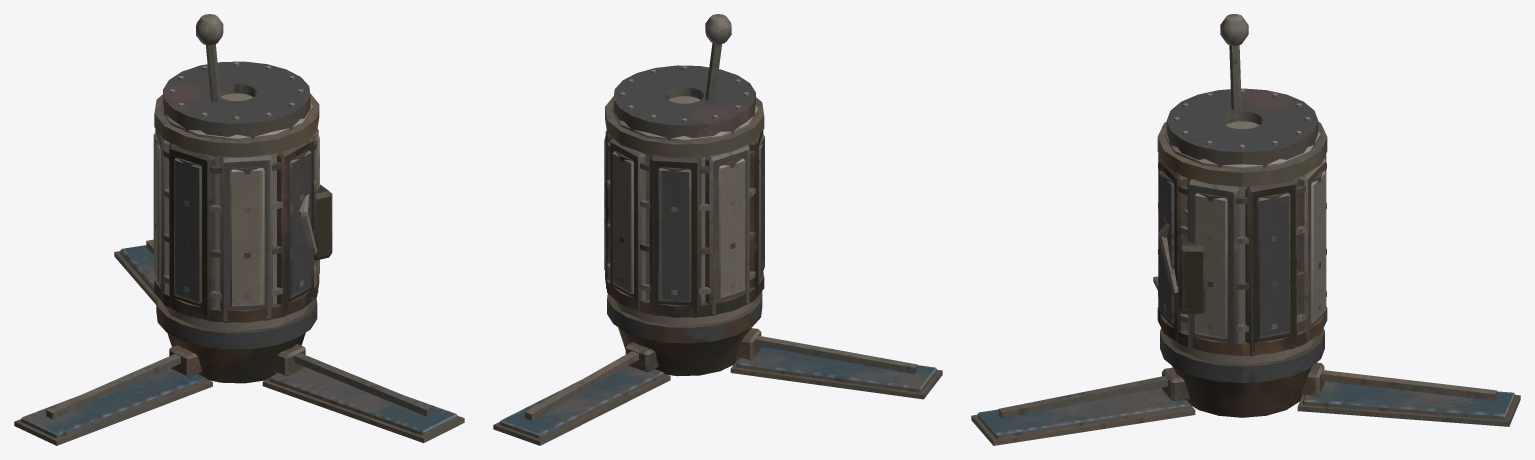
File: cargo-pod-container.glb
The picture shows the model from 3 angles, left to right: view 1: azimuth 30°, elevation 25°; view 2: azimuth 150°, elevation 25°; view 3: azimuth 270°, elevation 25°; orthographic projection. The views are drawn at different scales.
Visible parts, largest first — view 1: body; view 2: body; view 3: body.
Part boxes in pixels (left/top/right/bottom): body: left=14, top=14, right=464, bottom=445; body: left=493, top=14, right=942, bottom=445; body: left=971, top=14, right=1520, bottom=445.
Bounding box in the file's own units: 2.73 × 2.72 × 3.73.
1 material, 1 textured.
